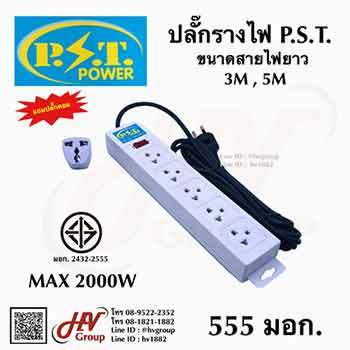Three_eye_plug: (101, 118, 289, 289)
